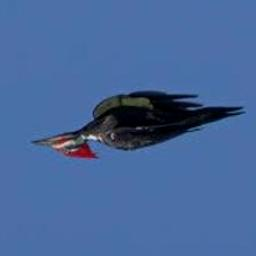Woodpecker: (31, 92, 246, 160)
